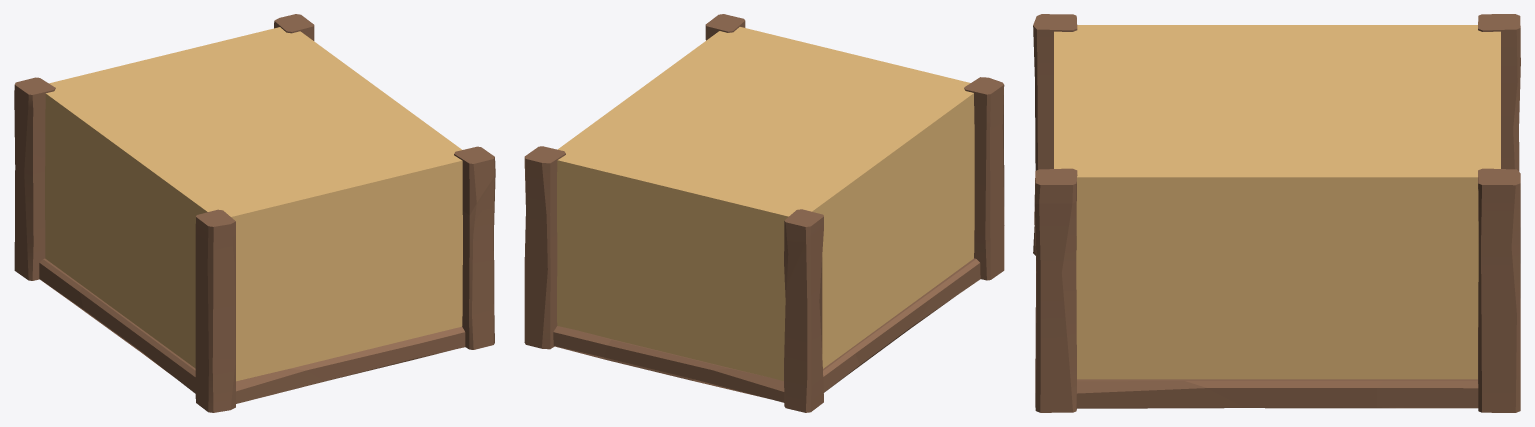
The model's file is House_2Floor_B.fbx.
3 renders of one model, left to right at view 1: azimuth 30°, elevation 25°; view 2: azimuth 150°, elevation 25°; view 3: azimuth 270°, elevation 25°, orthographic. The views are drawn at different scales.
Parts seen in each view (by area): view 1: House_2Floor_B; view 2: House_2Floor_B; view 3: House_2Floor_B.
Part boxes in pixels (left/top/right/bottom): House_2Floor_B: left=14, top=14, right=495, bottom=412; House_2Floor_B: left=524, top=14, right=1004, bottom=412; House_2Floor_B: left=1033, top=14, right=1520, bottom=412.
Bounding box in the file's own units: 387 × 244 × 466.
